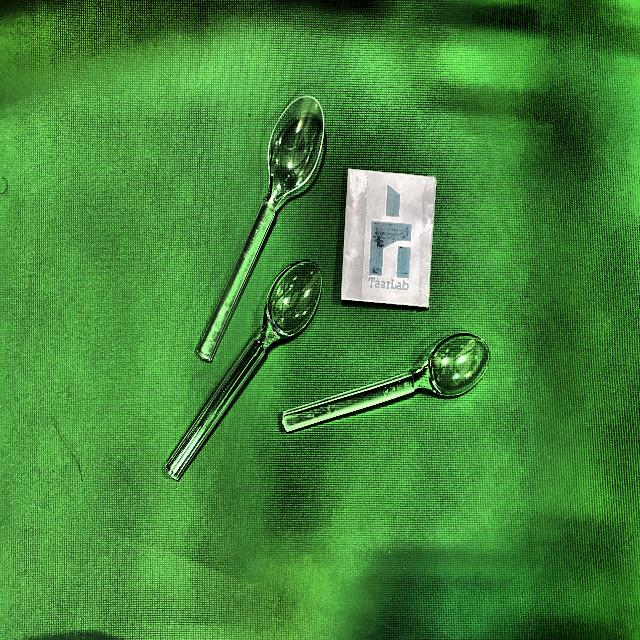plastic utensil: (164, 261, 322, 481), (198, 97, 327, 360), (285, 334, 491, 431)
